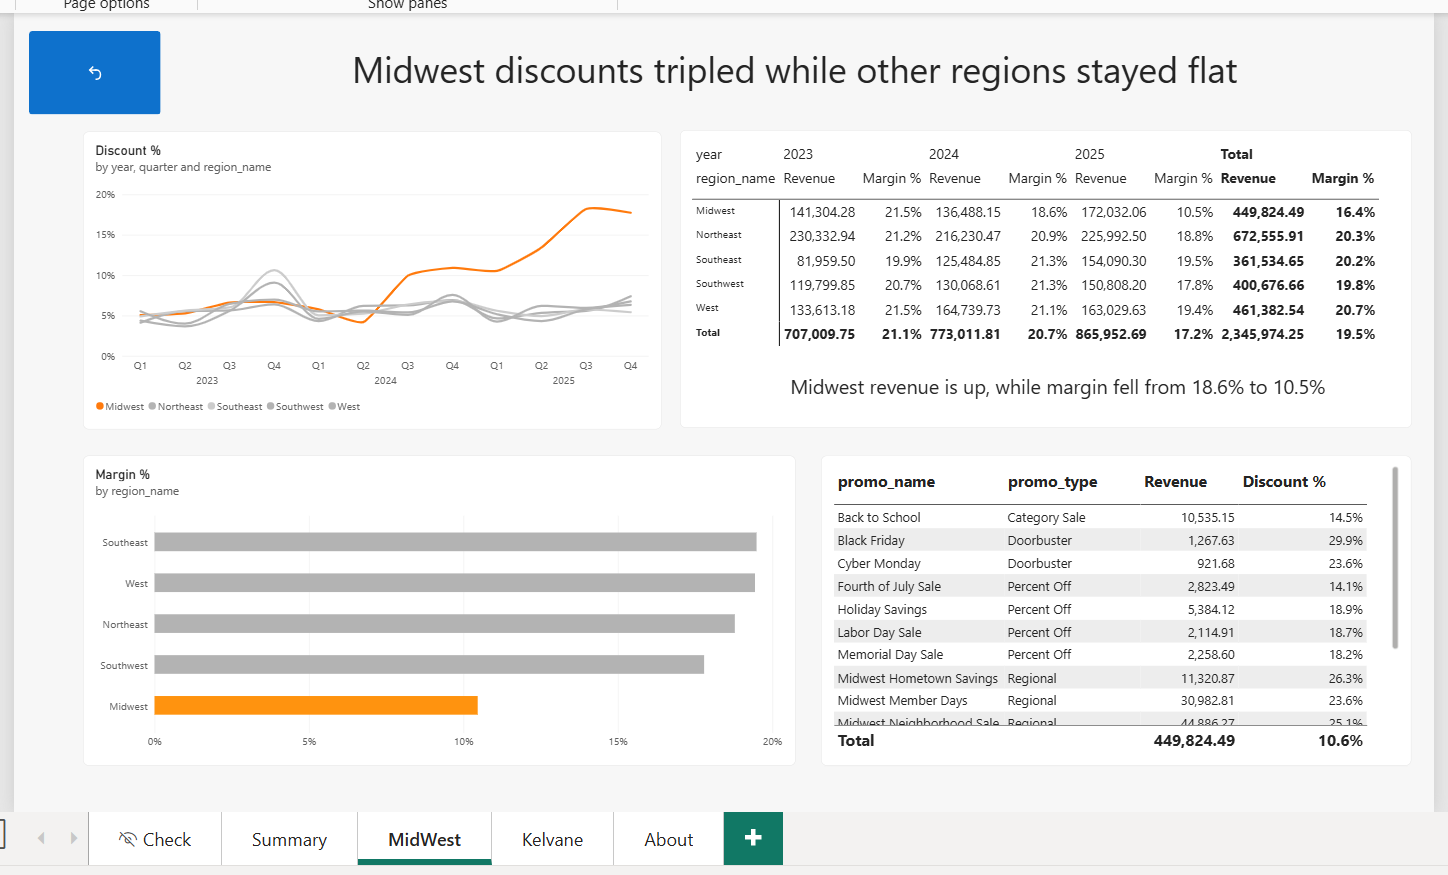

What the dashboard file says about the page in this screenshot:
{"tool":"powerbi","page":{"name":"MidWest","canvas":[1920,1080],"ordinal":2},"visuals":[{"type":"textbox","box":[94.2,42.4,1825,96.6],"z":1000},{"type":"barChart","fields":{"Category":["dim_store.region_name"],"Y":["_Measures.Margin %"]},"box":[94.2,598.1,963.1,419.2],"z":2000},{"type":"pivotTable","fields":{"Columns":["dim_date.year"],"Rows":["dim_store.region_name"],"Values":["_Measures.Revenue","_Measures.Margin %"]},"box":[899.6,157.8,989,402.7],"z":3000},{"type":"tableEx","fields":{"Values":["dim_promotion.promo_name","dim_promotion.promo_type","_Measures.Revenue","_Measures.Discount %"]},"box":[1090.3,598.1,798.3,419.2],"z":4000},{"type":"lineChart","fields":{"Category":["dim_date.year","dim_date.quarter"],"Series":["dim_store.region_name"],"Y":["_Measures.Discount %"]},"box":[94.2,160.1,781.8,402.7],"z":5000},{"type":"textbox","box":[960.8,487.5,899.6,51.8],"z":7000},{"type":"actionButton","box":[0,7.4,71.3,555.8],"z":7001}]}

Visuals, with their boxes on the page's 1920x1080 design canvas (x1, y1, x2, y2). These are canvas units, not pixel positions in the 1448x875 screenshot, which may show the page scaled, cropped or inside an application window:
textbox: x1=94, y1=42, x2=1919, y2=139
barChart - dim_store.region_name x _Measures.Margin %: x1=94, y1=598, x2=1057, y2=1017
pivotTable - dim_date.year x dim_store.region_name: x1=900, y1=158, x2=1889, y2=560
tableEx - dim_promotion.promo_name x dim_promotion.promo_type: x1=1090, y1=598, x2=1889, y2=1017
lineChart - dim_date.year x dim_date.quarter: x1=94, y1=160, x2=876, y2=563
textbox: x1=961, y1=488, x2=1860, y2=539
actionButton: x1=0, y1=7, x2=71, y2=563
